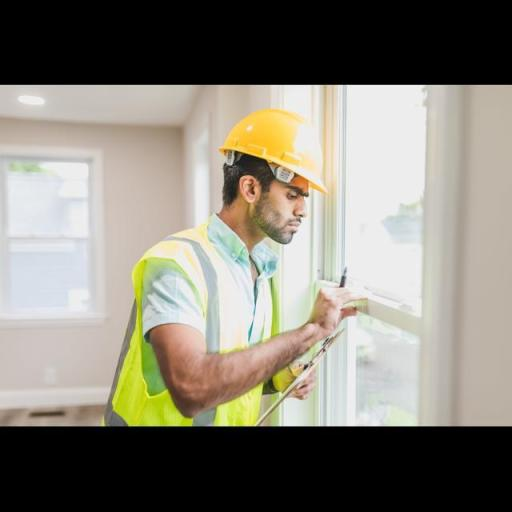Person: (39, 72, 399, 426)
helmet: (209, 106, 341, 202)
vest: (104, 223, 290, 426)
